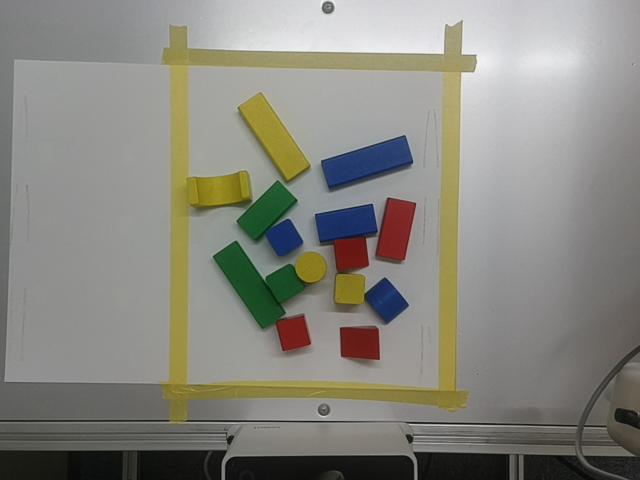blue_cube: (265, 219, 302, 256)
blue_longrect: (322, 135, 412, 188)
blue_rect: (315, 204, 377, 243)
cylinder: (295, 252, 326, 283)
green_cube: (265, 264, 304, 303)
green_longrect: (213, 241, 284, 328)
green_rect: (237, 181, 297, 240)
half_cylinder: (365, 278, 408, 323)
red_cube: (276, 314, 310, 351)
red_rect: (376, 198, 415, 260)
triangle: (341, 327, 379, 359), (334, 238, 368, 271)
yellow_archrect: (187, 170, 250, 207)
yellow_cube: (335, 273, 364, 303)
yellow_longrect: (239, 93, 309, 181)
